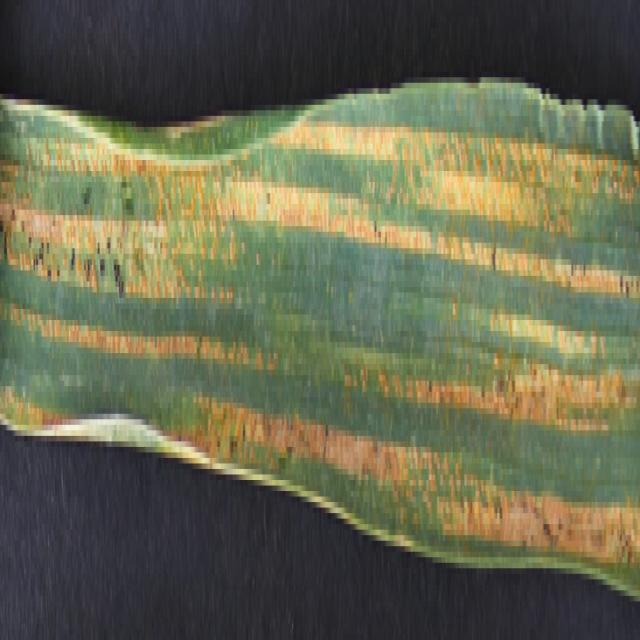leaf rust: (1, 77, 637, 568)
